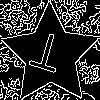T: (25, 30, 66, 83)
